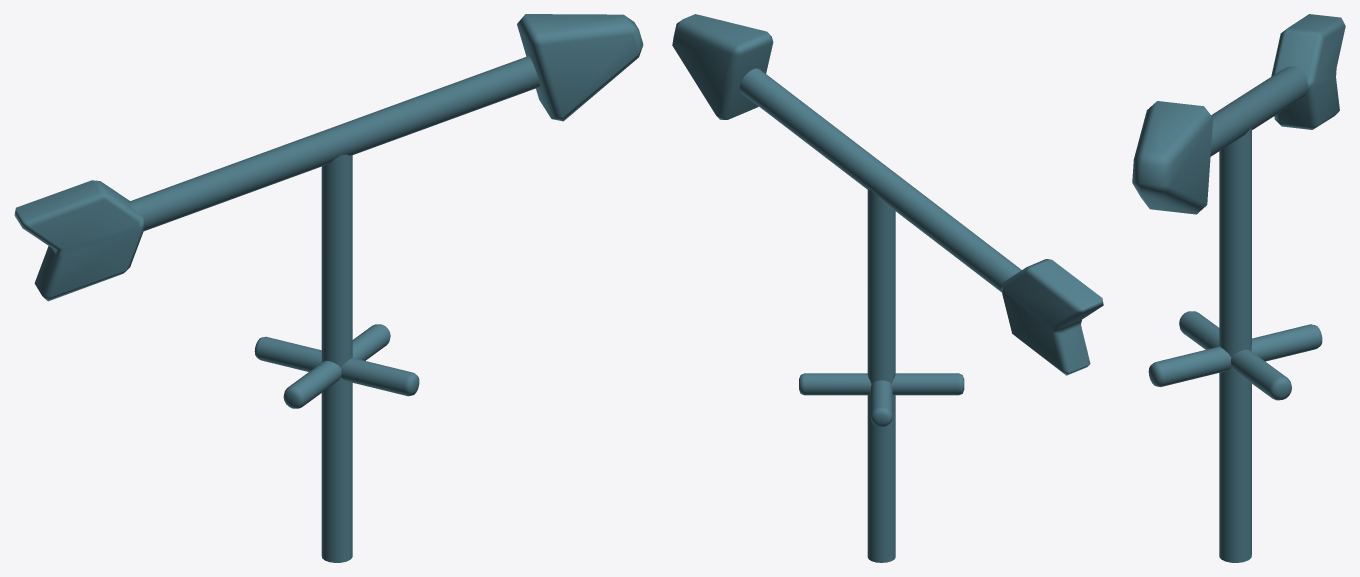
The model's file is City_1_Antenna_1.glb.
The picture shows the model from 3 angles, left to right: view 1: azimuth 30°, elevation 25°; view 2: azimuth 150°, elevation 25°; view 3: azimuth 270°, elevation 25°; orthographic projection. The views are drawn at different scales.
Visible parts, largest first — view 1: City_1_Antenna_1; view 2: City_1_Antenna_1; view 3: City_1_Antenna_1.
Part boxes in pixels (x1=…): City_1_Antenna_1: x1=14, y1=14, x2=643, y2=562; City_1_Antenna_1: x1=672, y1=14, x2=1103, y2=562; City_1_Antenna_1: x1=1132, y1=14, x2=1345, y2=562.
Bounding box in the file's own units: 1.72 × 1.54 × 0.5531.
Materials: 1 (1 with a texture image).
